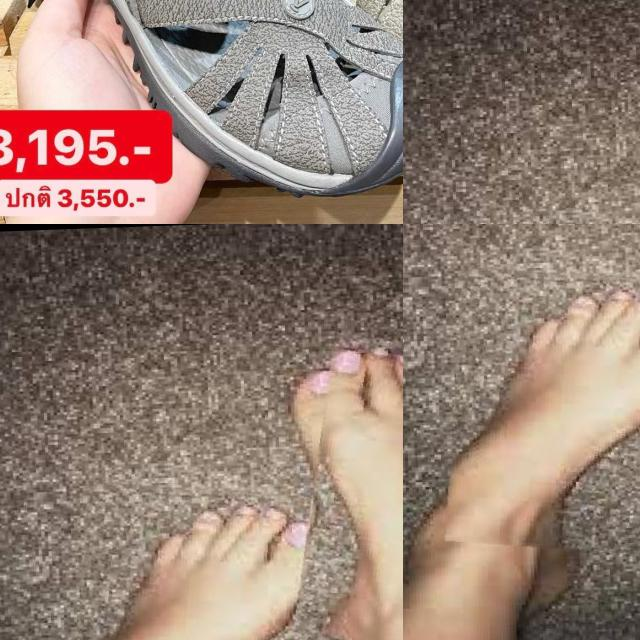Barefoots: (416, 284, 640, 604), (295, 337, 403, 640), (94, 498, 322, 640)
Sandals: (0, 0, 403, 194)
